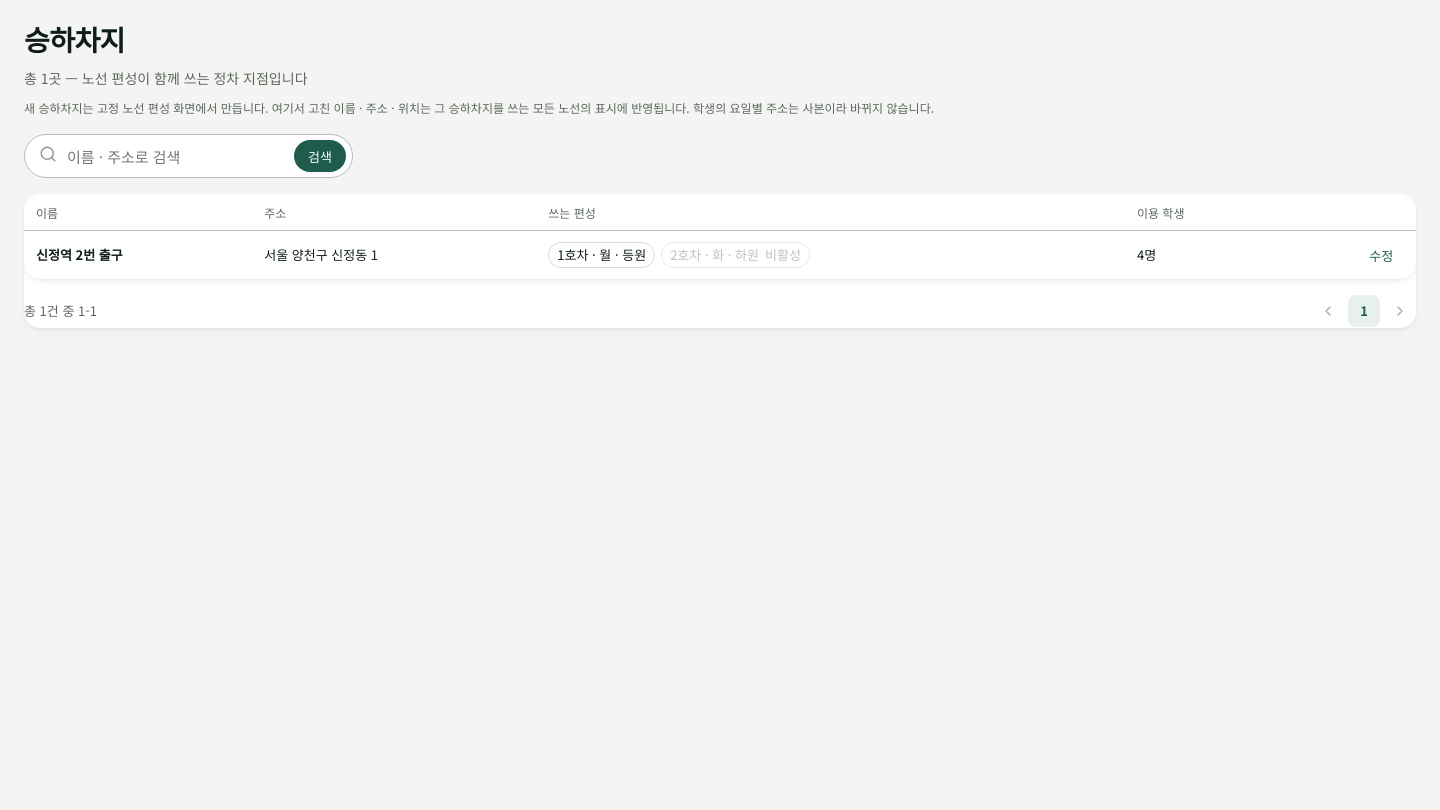
StopManagement — 수정 › 핀을 옮기지 않았으면 '핀 되돌리기' 단추가 없고, 끌어 옮기면 나타난다
This screenshot has width=1440, height=810.
Click the button "수정" at [1381, 255], box [1358,241,1404,269]
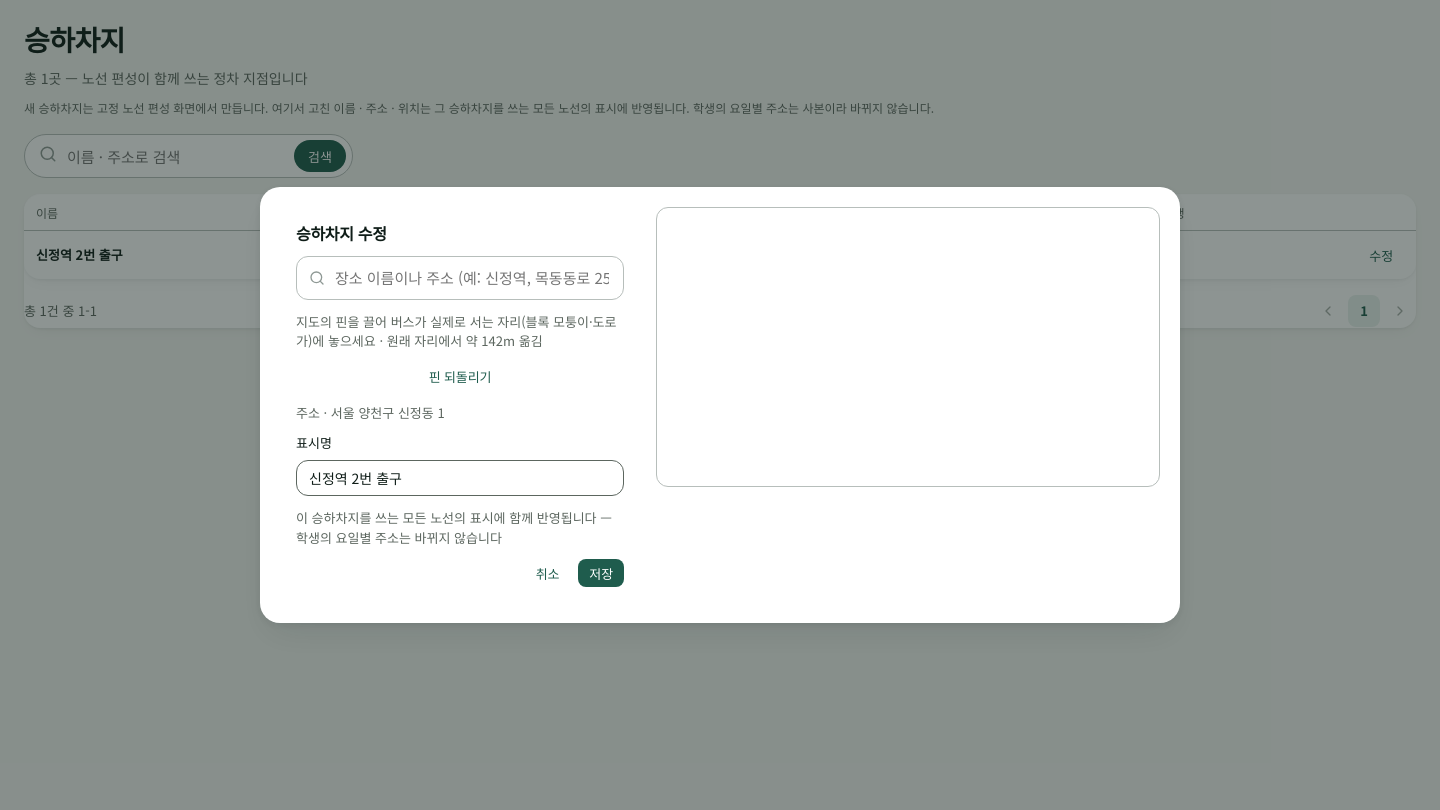
Check: the button "핀 되돌리기" is shown, box [296,362,624,390]
